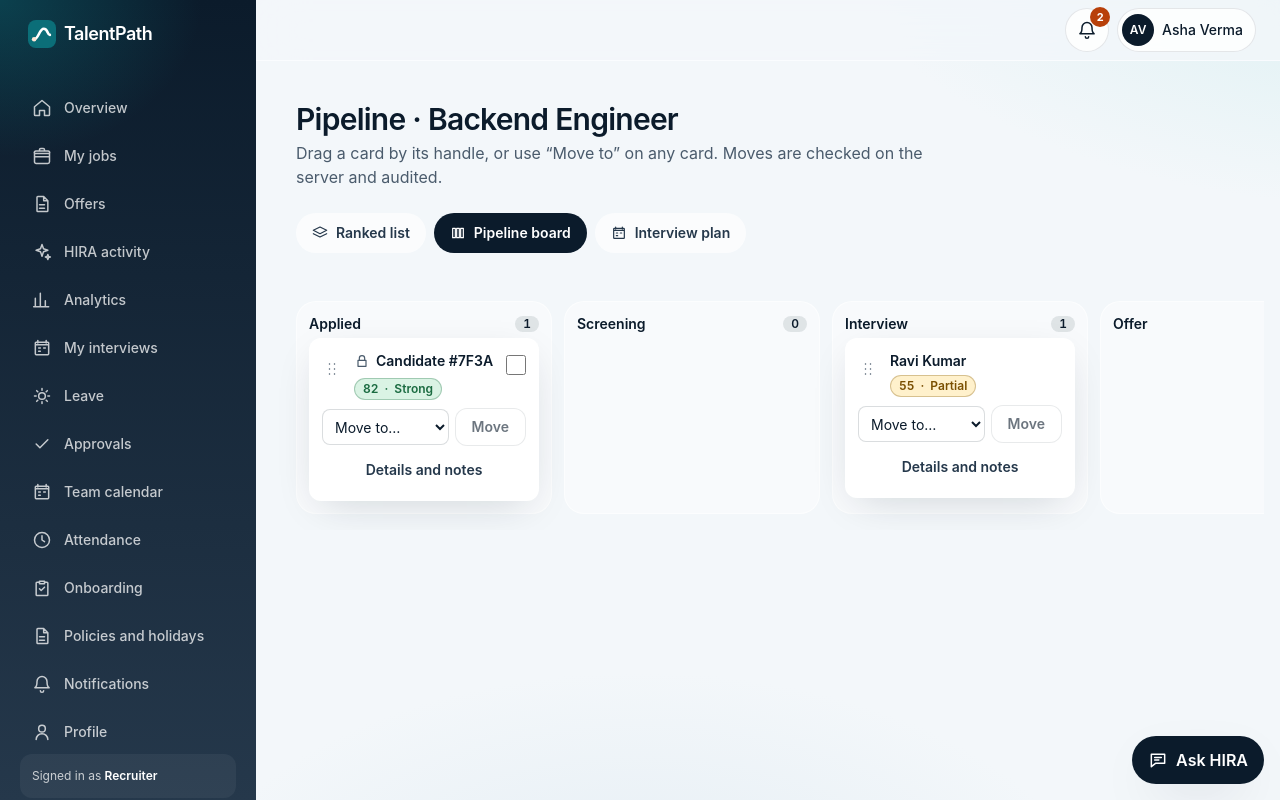
Test: pipeline board › asks for a reason before rejecting
Select "Not selected" in the dropdown named "Move Candidate #7F3A to" below "Candidate #7F3A" at (385, 427), box [322,409,449,445]
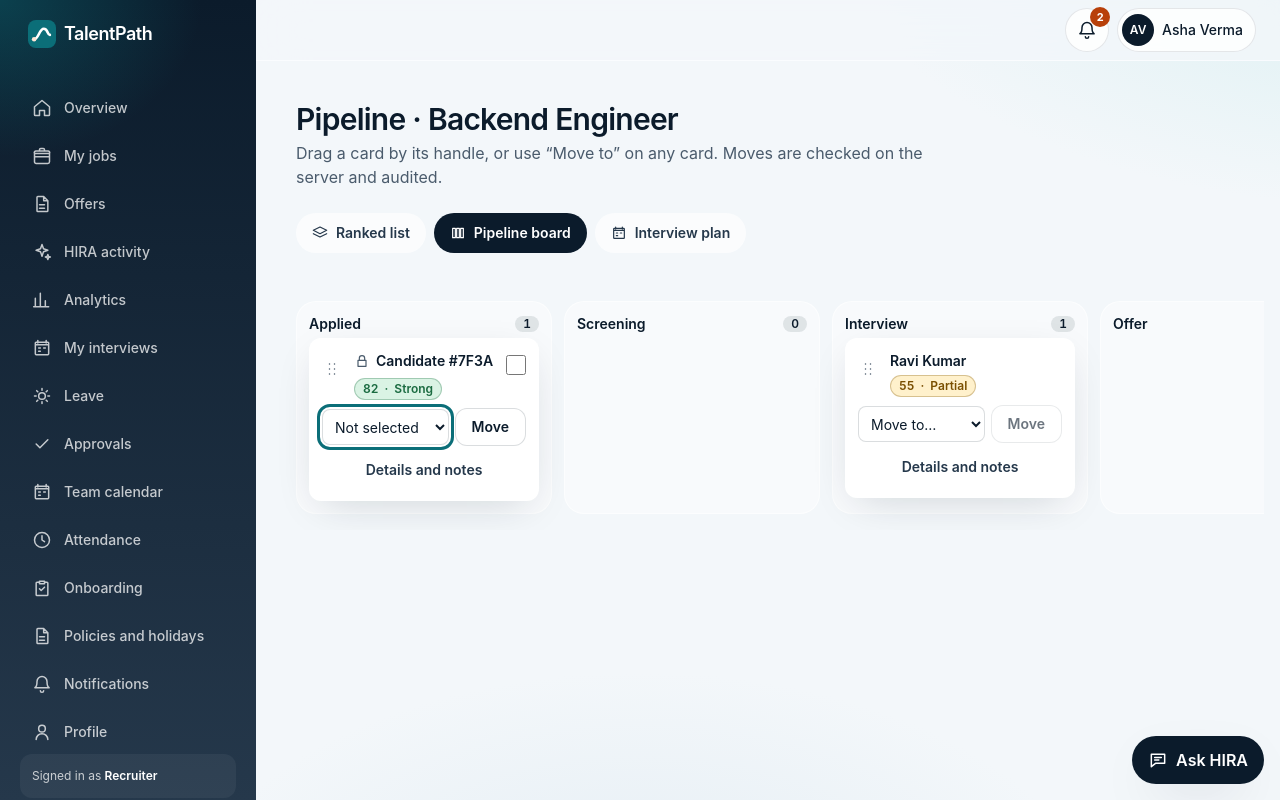
Click the button named "Move Candidate #7F3A" at (490, 427), box [455,408,526,446]
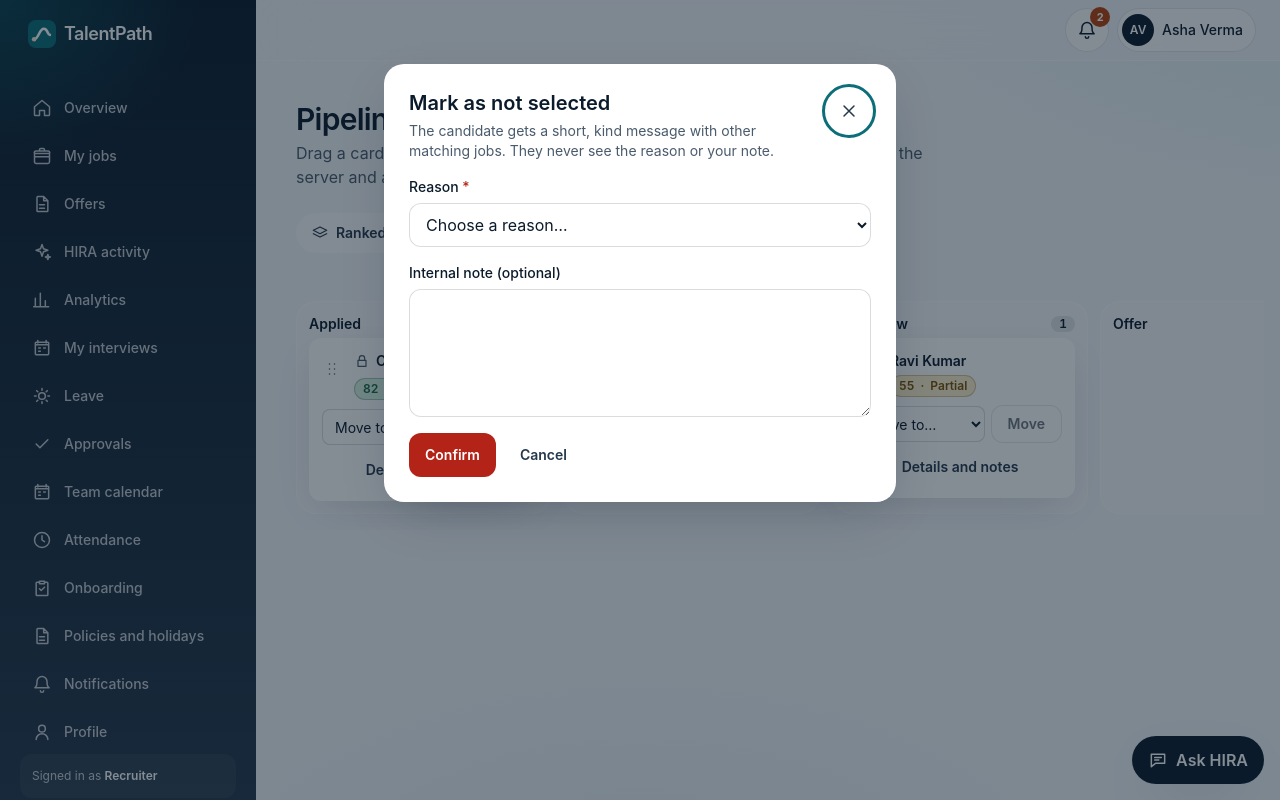
Click the button "Confirm" at (452, 455), box [409,433,496,477]
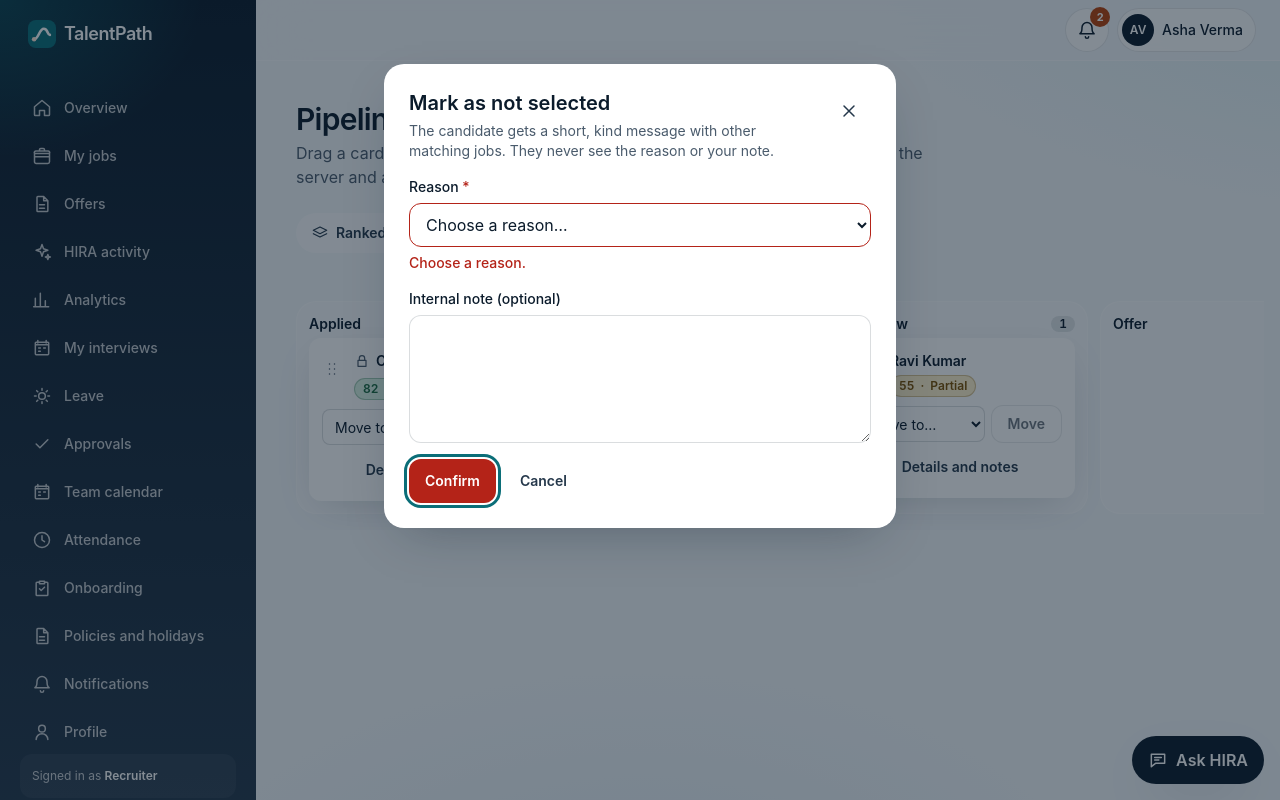
Check: the text "Choose a reason." is shown, box [409,254,526,271]
